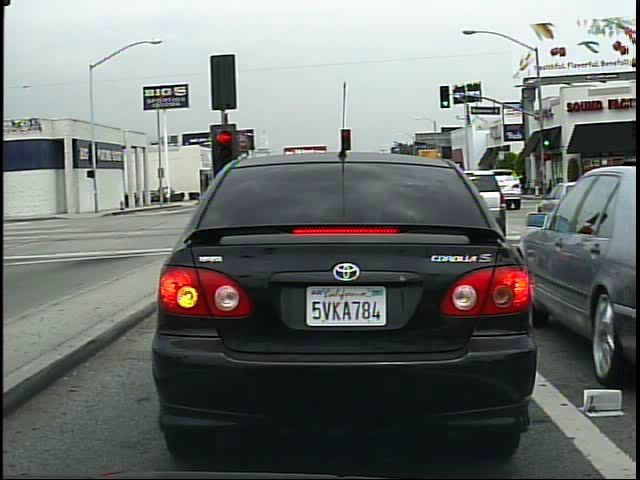person: (518, 167, 533, 200), (164, 183, 174, 207)
